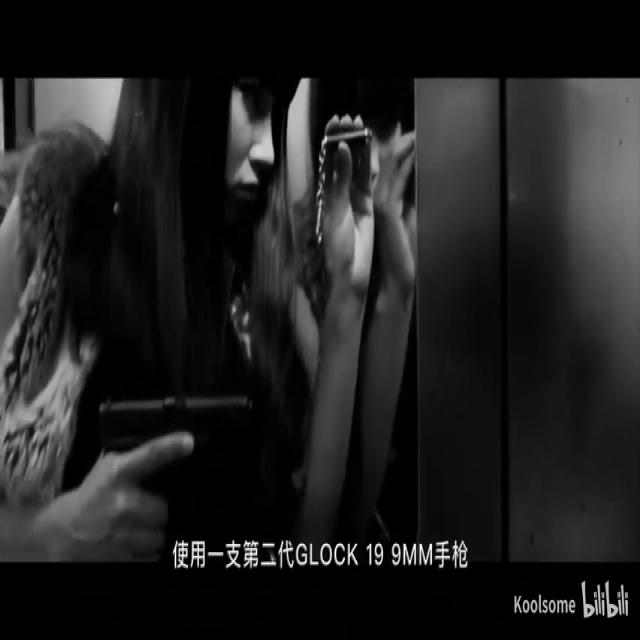Hand-Gun: (75, 298, 285, 640)
